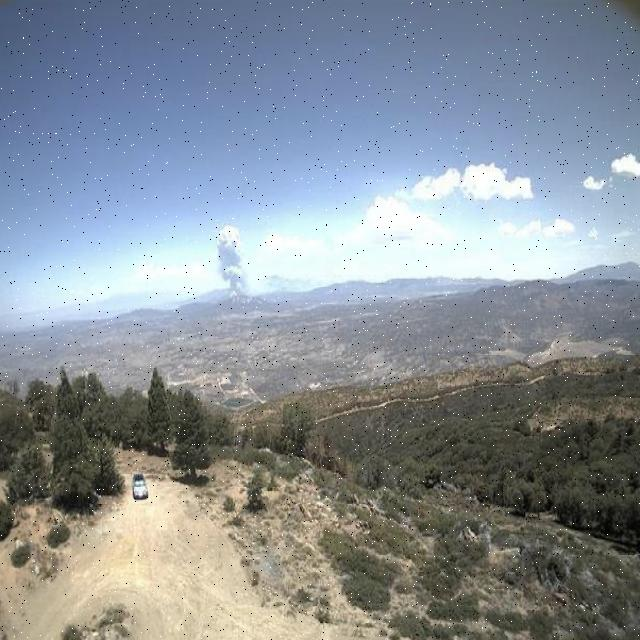smoke: (215, 220, 250, 300)
